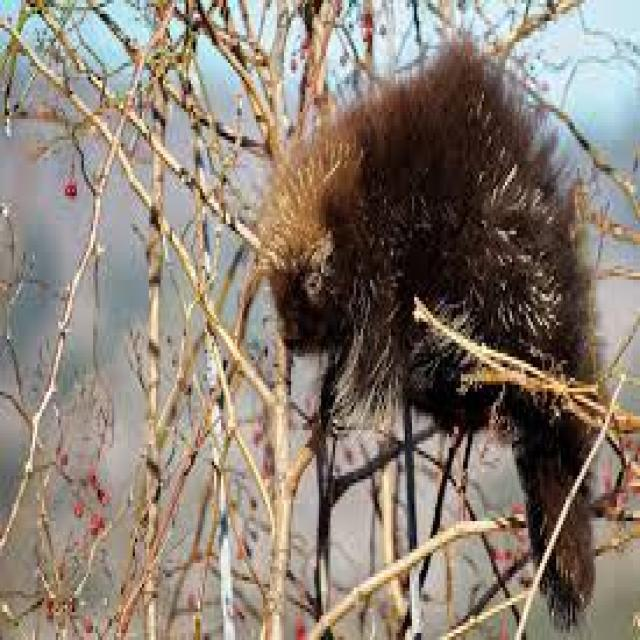Porcupine: (258, 19, 594, 595)
